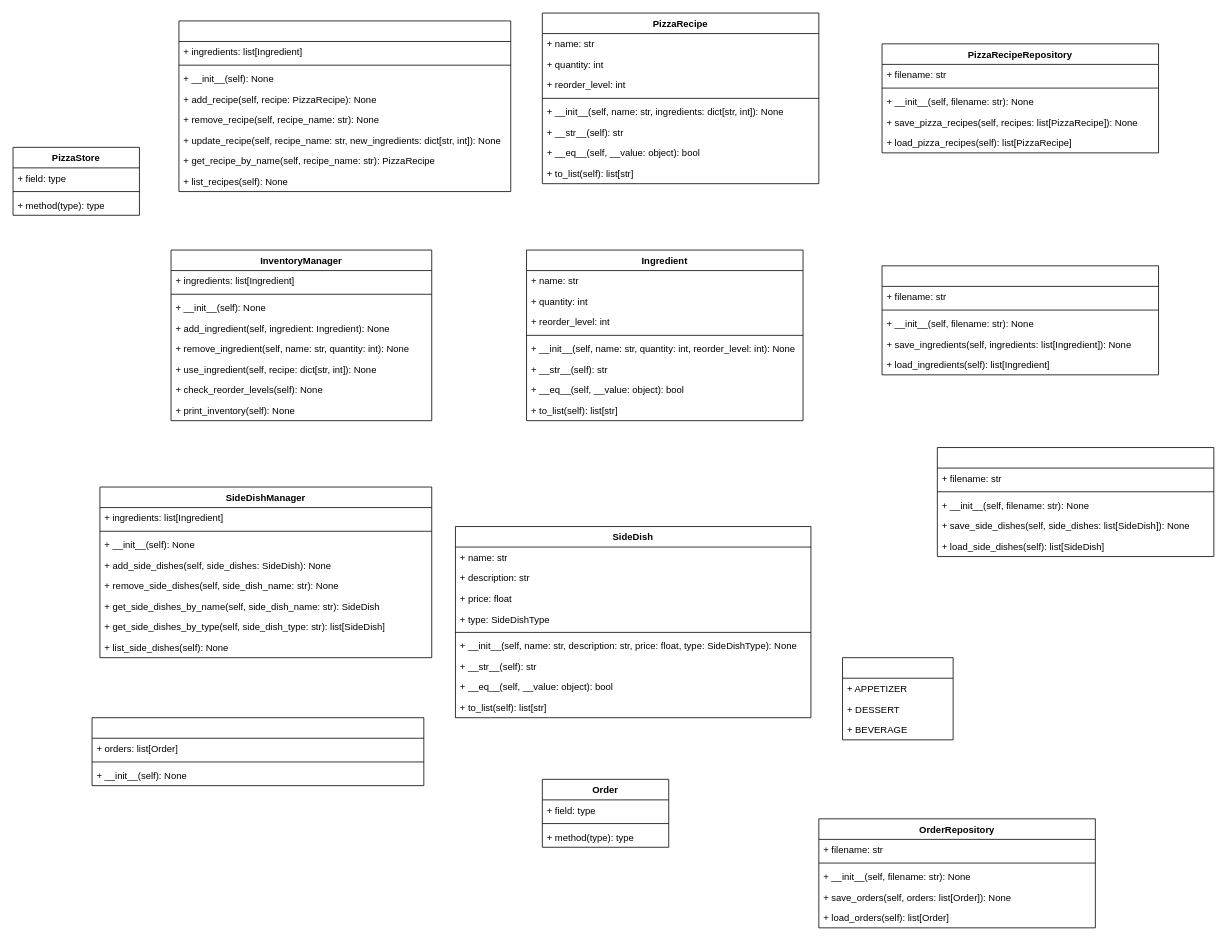
Some shapes in this 1227 by 941 pixel diagram are drawn without their labels. The box of each missing label's shape, as (x1, y1, x2, y2) in pixels:
IngredientRepository: (881, 265, 1159, 375)
OrderManager: (91, 717, 424, 786)
RecipeManager: (178, 20, 511, 192)
SideDishRepository: (937, 447, 1214, 557)
SideDishType(Enum): (842, 657, 953, 740)
